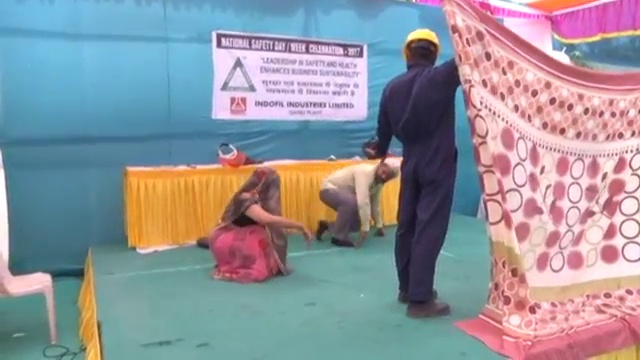helmet: (403, 27, 441, 56)
helmet_off: (252, 164, 280, 195), (374, 156, 398, 187)
helmet_on: (402, 27, 441, 71)
person: (377, 27, 462, 321), (211, 166, 310, 282), (315, 155, 399, 249)
